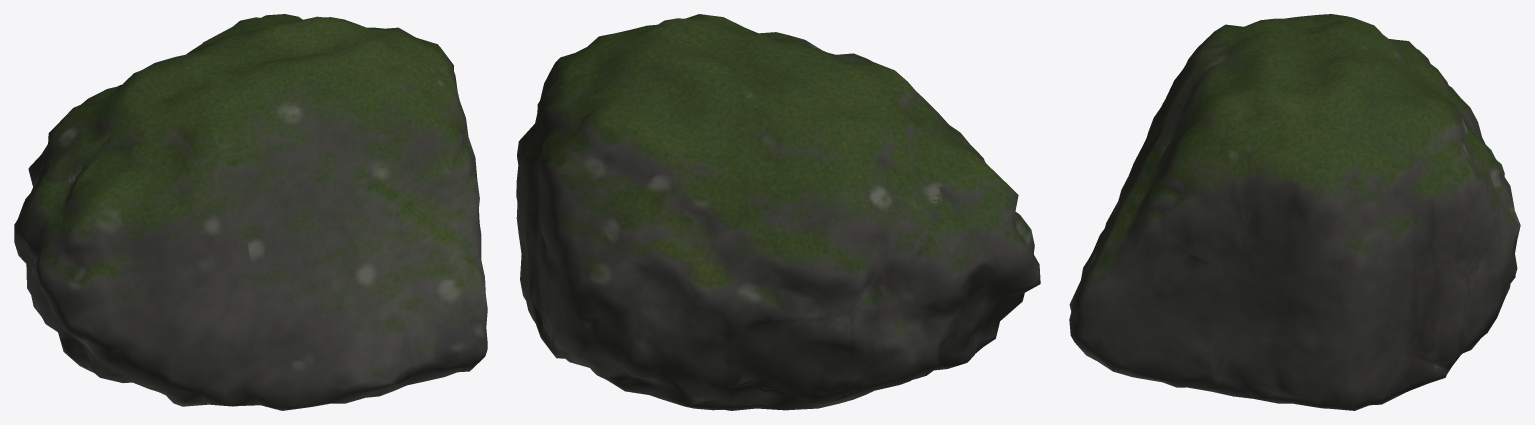
The model's file is rock_mossy.glb.
3 views of the same model, side by side, from view 1: azimuth 30°, elevation 25°; view 2: azimuth 150°, elevation 25°; view 3: azimuth 270°, elevation 25° (orthographic). The views are drawn at different scales.
Visible parts, largest first — view 1: rock_mossy; view 2: rock_mossy; view 3: rock_mossy.
Part boxes in pixels (x1=…): rock_mossy: x1=14, y1=14, x2=487, y2=410; rock_mossy: x1=516, y1=14, x2=1040, y2=410; rock_mossy: x1=1069, y1=14, x2=1520, y2=410.
Size of the model in its own units: 1.56 by 0.9403 by 1.37.
Materials: 1 (1 with a texture image).
